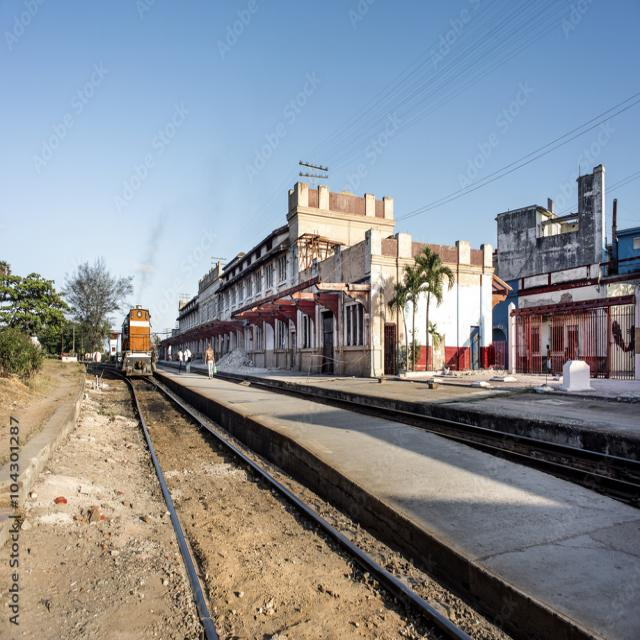locomotive: (119, 301, 160, 381)
